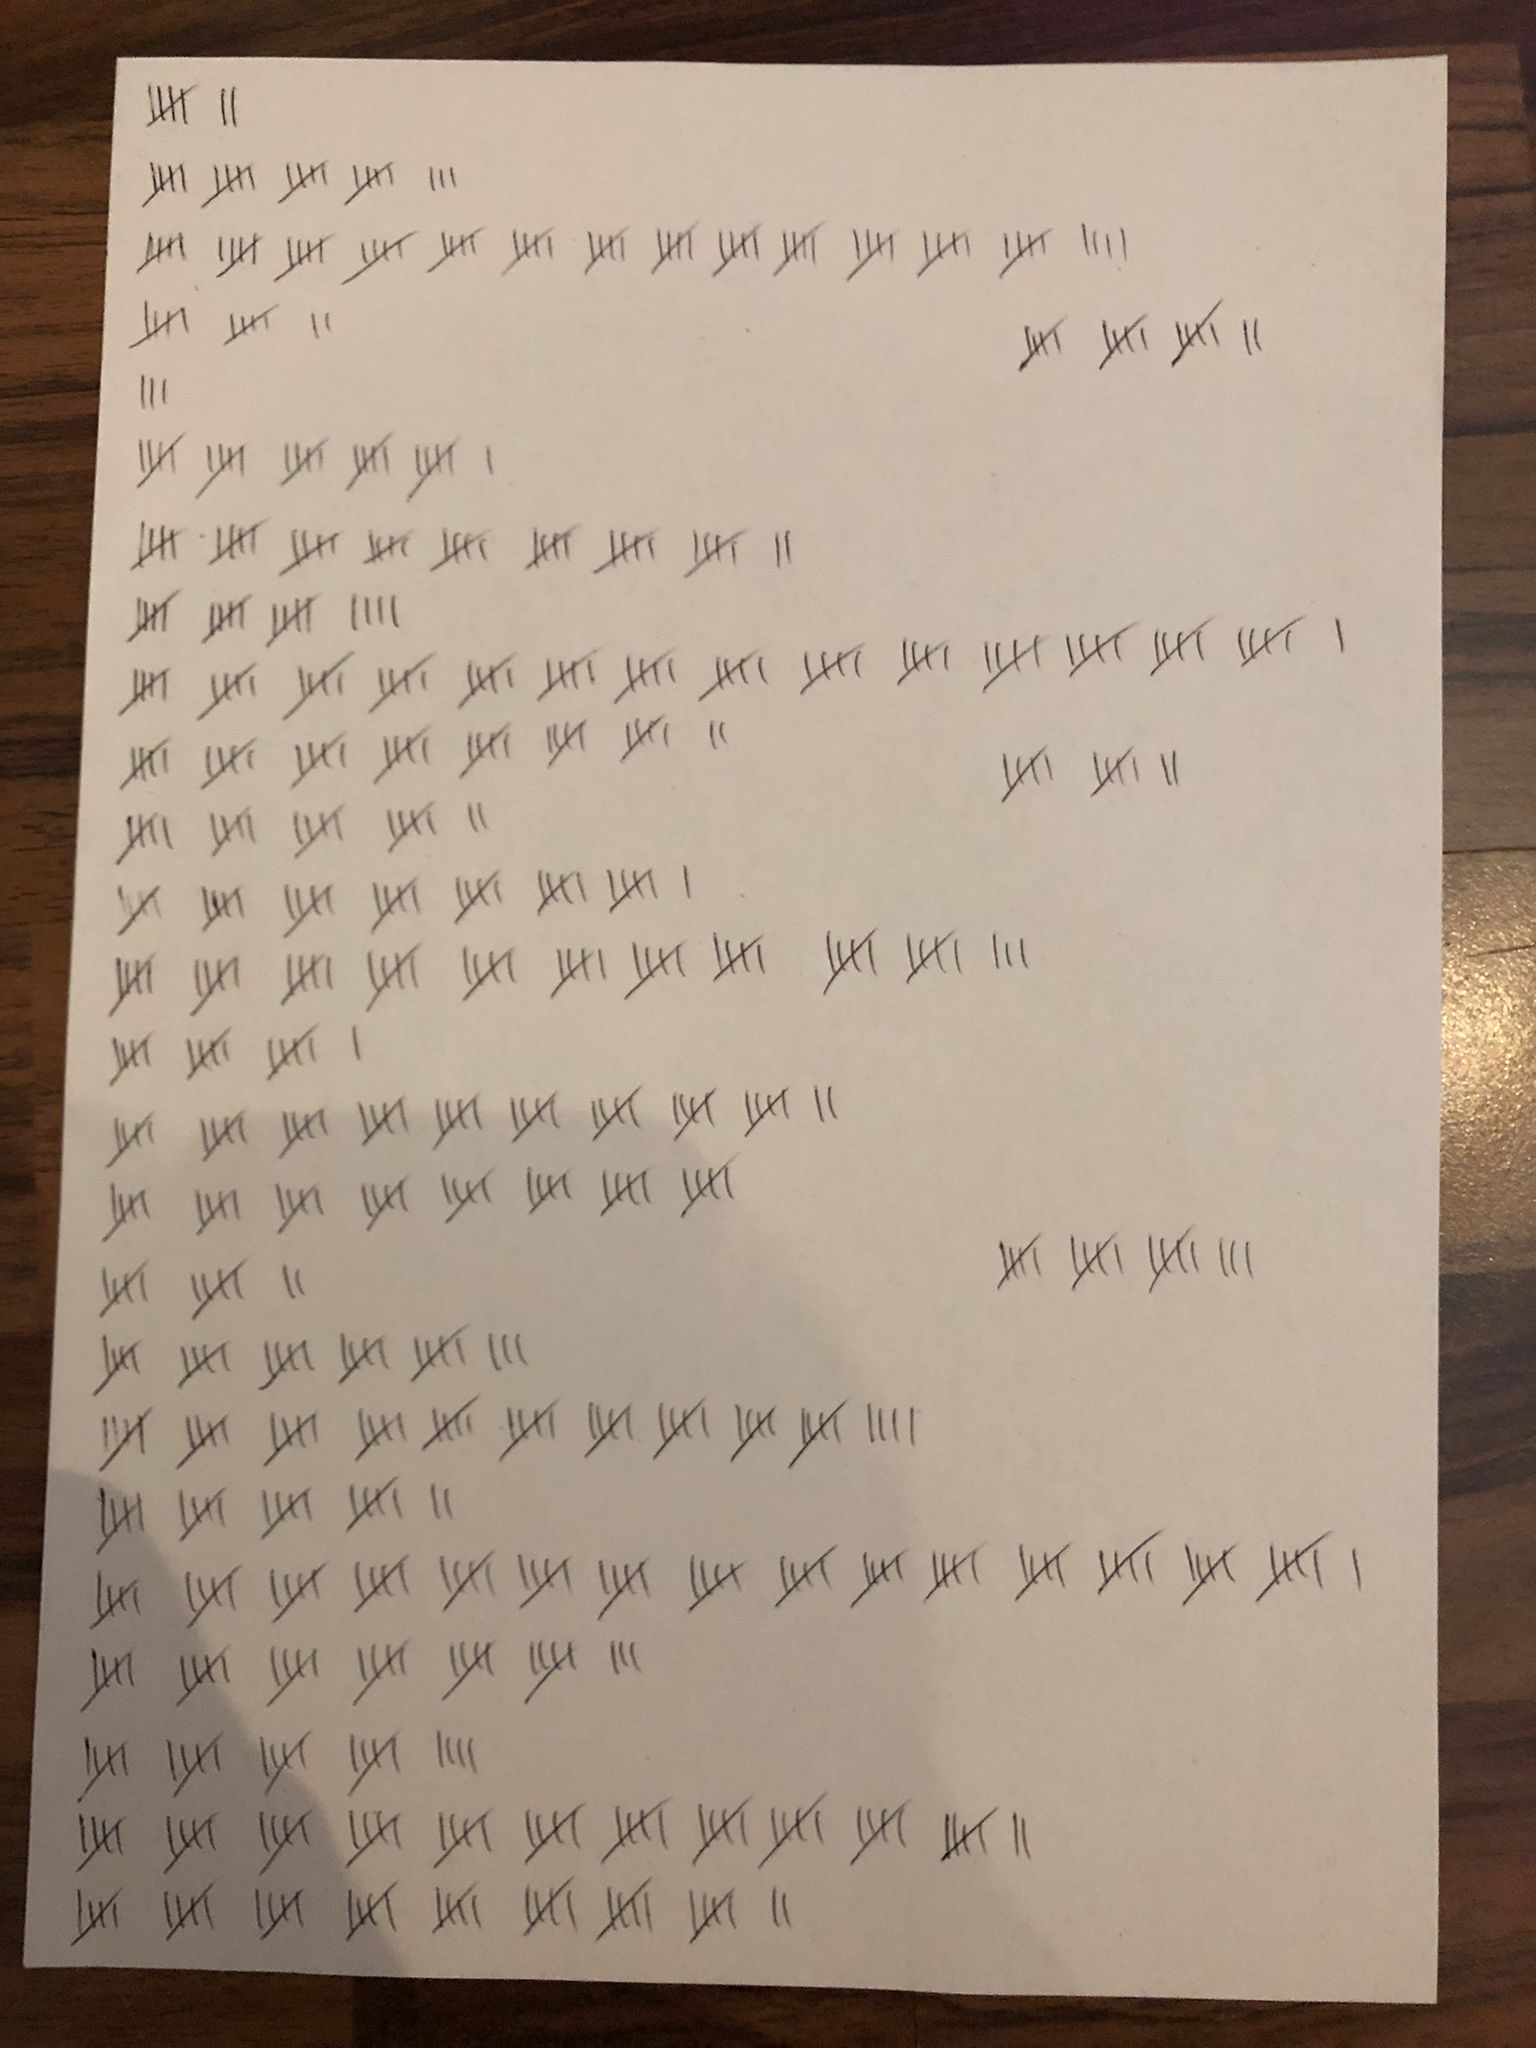Block: (757, 1788, 829, 1867), (1252, 1529, 1333, 1600), (278, 648, 353, 719), (599, 1796, 670, 1863), (340, 227, 418, 285), (1096, 1527, 1163, 1592), (366, 650, 436, 713), (979, 631, 1050, 692), (263, 1558, 328, 1624), (786, 1400, 849, 1467), (361, 942, 423, 1011), (349, 1637, 410, 1705), (689, 1796, 750, 1864), (771, 1543, 836, 1606), (850, 1798, 912, 1864), (820, 926, 879, 993), (920, 1542, 987, 1601), (1170, 297, 1225, 369), (1063, 622, 1136, 677), (674, 1155, 737, 1218), (181, 1563, 242, 1627), (523, 1801, 584, 1866), (620, 939, 686, 998), (1142, 1224, 1199, 1293), (369, 722, 432, 784), (499, 1397, 560, 1459), (194, 661, 258, 721), (594, 1875, 653, 1940), (95, 1405, 153, 1471), (287, 729, 349, 790), (650, 1398, 712, 1459), (1149, 618, 1213, 676), (253, 1808, 311, 1872), (613, 647, 679, 703), (408, 1322, 470, 1382), (707, 927, 770, 985), (74, 1737, 132, 1800), (345, 1730, 402, 1795), (695, 648, 768, 698), (407, 434, 458, 503), (186, 1259, 245, 1319), (431, 1809, 490, 1869), (845, 1548, 905, 1608), (347, 1555, 408, 1613), (261, 1643, 319, 1705), (79, 1646, 136, 1709), (160, 1809, 216, 1872), (166, 1734, 223, 1796), (340, 1809, 403, 1866), (1179, 1542, 1236, 1605), (595, 1556, 650, 1621), (799, 640, 865, 693), (94, 1485, 145, 1553), (584, 1084, 644, 1142), (86, 1569, 144, 1629), (686, 1553, 745, 1611), (194, 440, 250, 502), (523, 1638, 578, 1701), (127, 298, 192, 352), (521, 1875, 579, 1934), (771, 219, 828, 279), (187, 955, 244, 1014), (421, 1393, 481, 1450), (173, 1645, 229, 1705), (439, 1550, 495, 1609), (440, 1638, 495, 1700), (1097, 308, 1150, 371), (344, 427, 395, 492), (536, 647, 600, 698), (682, 527, 749, 577), (1238, 614, 1304, 664), (429, 1092, 486, 1150), (68, 1887, 124, 1945), (1013, 1542, 1070, 1600), (549, 945, 608, 1000), (263, 1022, 323, 1077), (1070, 1230, 1125, 1290), (260, 1409, 319, 1464), (73, 1811, 127, 1871), (273, 232, 337, 282), (844, 226, 900, 282), (458, 945, 515, 1001), (499, 223, 557, 277), (995, 224, 1054, 279), (131, 514, 186, 572), (457, 719, 511, 777), (345, 1474, 403, 1529), (342, 1882, 400, 1937), (426, 223, 486, 276), (912, 224, 971, 277), (136, 431, 189, 490), (455, 653, 515, 706), (902, 929, 963, 980), (106, 951, 157, 1014), (90, 1334, 140, 1397), (279, 880, 336, 935), (160, 1882, 215, 1938), (649, 218, 702, 276), (712, 219, 765, 277), (368, 876, 421, 934), (257, 1338, 315, 1392), (1018, 313, 1070, 373), (198, 737, 258, 789), (221, 298, 282, 348), (260, 1730, 310, 1792), (995, 1230, 1044, 1293), (265, 590, 319, 645), (507, 1089, 561, 1143), (437, 1168, 492, 1222), (176, 1411, 231, 1466), (290, 803, 347, 856), (428, 1879, 484, 1932), (939, 1808, 997, 1859), (592, 527, 658, 572), (276, 527, 339, 574), (118, 735, 173, 789), (999, 747, 1052, 801), (95, 1259, 148, 1314), (252, 1887, 307, 1940), (516, 1553, 571, 1606), (124, 589, 181, 640), (198, 160, 257, 210), (115, 813, 173, 863), (728, 1403, 776, 1463), (337, 1330, 390, 1384), (386, 798, 437, 853), (278, 953, 332, 1005), (103, 1111, 155, 1166), (686, 1887, 737, 1942), (142, 79, 198, 129), (273, 155, 329, 205), (174, 1338, 231, 1388), (176, 1485, 226, 1542), (100, 1184, 148, 1242), (581, 223, 632, 276), (453, 868, 503, 922), (278, 1105, 328, 1159), (258, 1485, 313, 1535), (582, 1401, 631, 1458), (428, 527, 489, 571), (182, 1026, 234, 1077), (198, 590, 252, 640), (116, 666, 169, 716), (741, 1085, 791, 1138), (340, 158, 395, 206), (895, 637, 950, 685), (105, 1030, 153, 1085), (523, 522, 579, 569), (207, 519, 265, 564), (278, 435, 329, 485), (618, 713, 670, 763), (198, 1109, 248, 1161), (666, 1089, 718, 1138), (274, 1182, 324, 1234), (352, 1409, 403, 1459), (1087, 747, 1141, 795), (361, 1176, 410, 1229), (597, 1166, 650, 1214), (603, 866, 658, 913), (211, 229, 261, 279), (358, 1097, 408, 1147), (115, 884, 163, 935), (132, 231, 189, 274), (210, 806, 258, 856), (524, 1164, 574, 1213), (139, 160, 187, 208), (536, 869, 587, 914), (541, 718, 586, 768), (198, 884, 245, 930), (194, 1187, 240, 1234), (361, 527, 415, 564)
Single: (349, 1021, 363, 1064), (1350, 1543, 1363, 1592), (1333, 613, 1346, 655), (428, 1480, 440, 1521), (1238, 314, 1249, 360), (905, 1401, 916, 1447), (305, 306, 319, 340), (987, 927, 999, 971), (863, 1400, 874, 1443), (1250, 316, 1263, 353), (148, 369, 160, 410), (1242, 1238, 1254, 1279), (218, 82, 227, 127), (681, 860, 692, 898), (824, 1084, 836, 1122), (484, 1330, 494, 1376), (1117, 224, 1128, 261), (361, 590, 373, 627), (771, 529, 783, 566), (137, 369, 147, 411), (1213, 1235, 1223, 1277), (484, 440, 495, 476), (442, 1484, 453, 1519), (389, 590, 399, 631), (876, 1401, 886, 1442), (770, 1885, 779, 1925), (1016, 934, 1028, 968), (349, 587, 357, 634), (1012, 1811, 1020, 1858), (783, 526, 792, 564), (278, 1263, 287, 1301), (891, 1405, 900, 1443), (607, 1638, 616, 1675), (432, 1727, 440, 1771), (424, 163, 436, 194), (497, 1334, 507, 1369), (812, 1085, 820, 1127), (374, 590, 384, 624), (463, 805, 473, 839), (1079, 218, 1087, 258), (1226, 1235, 1234, 1276), (465, 1735, 473, 1775), (705, 719, 715, 751), (779, 1890, 787, 1929), (1020, 1816, 1026, 1863), (511, 1332, 520, 1369), (229, 82, 236, 127), (161, 373, 169, 406), (474, 800, 482, 834), (444, 1734, 452, 1767), (1157, 750, 1163, 790), (1170, 748, 1176, 789), (290, 1264, 298, 1297), (449, 161, 458, 187), (628, 1642, 636, 1672), (616, 1638, 624, 1669), (437, 163, 445, 192), (323, 305, 331, 334), (455, 1735, 461, 1771), (1100, 232, 1108, 260), (1004, 940, 1012, 968), (716, 719, 724, 745), (1089, 226, 1096, 256)
